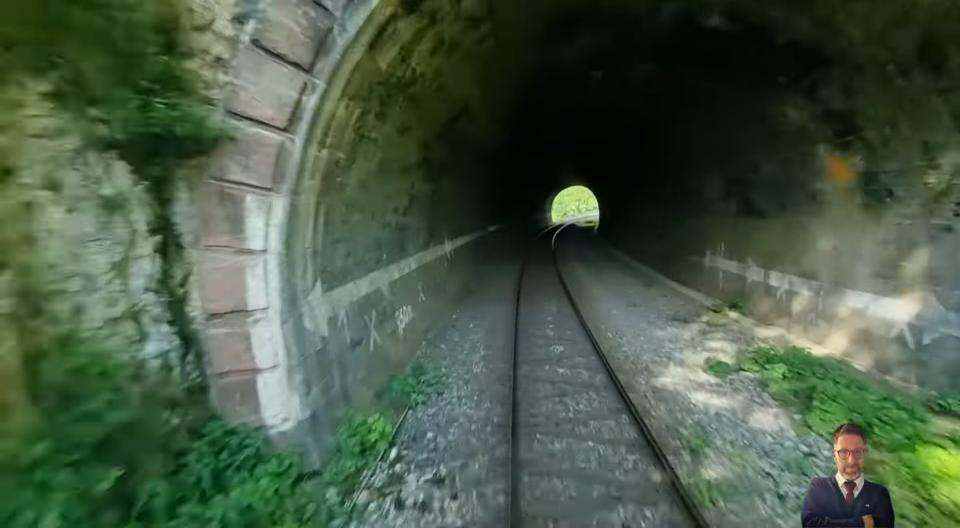Plant: (706, 343, 960, 528), (321, 363, 442, 517)
